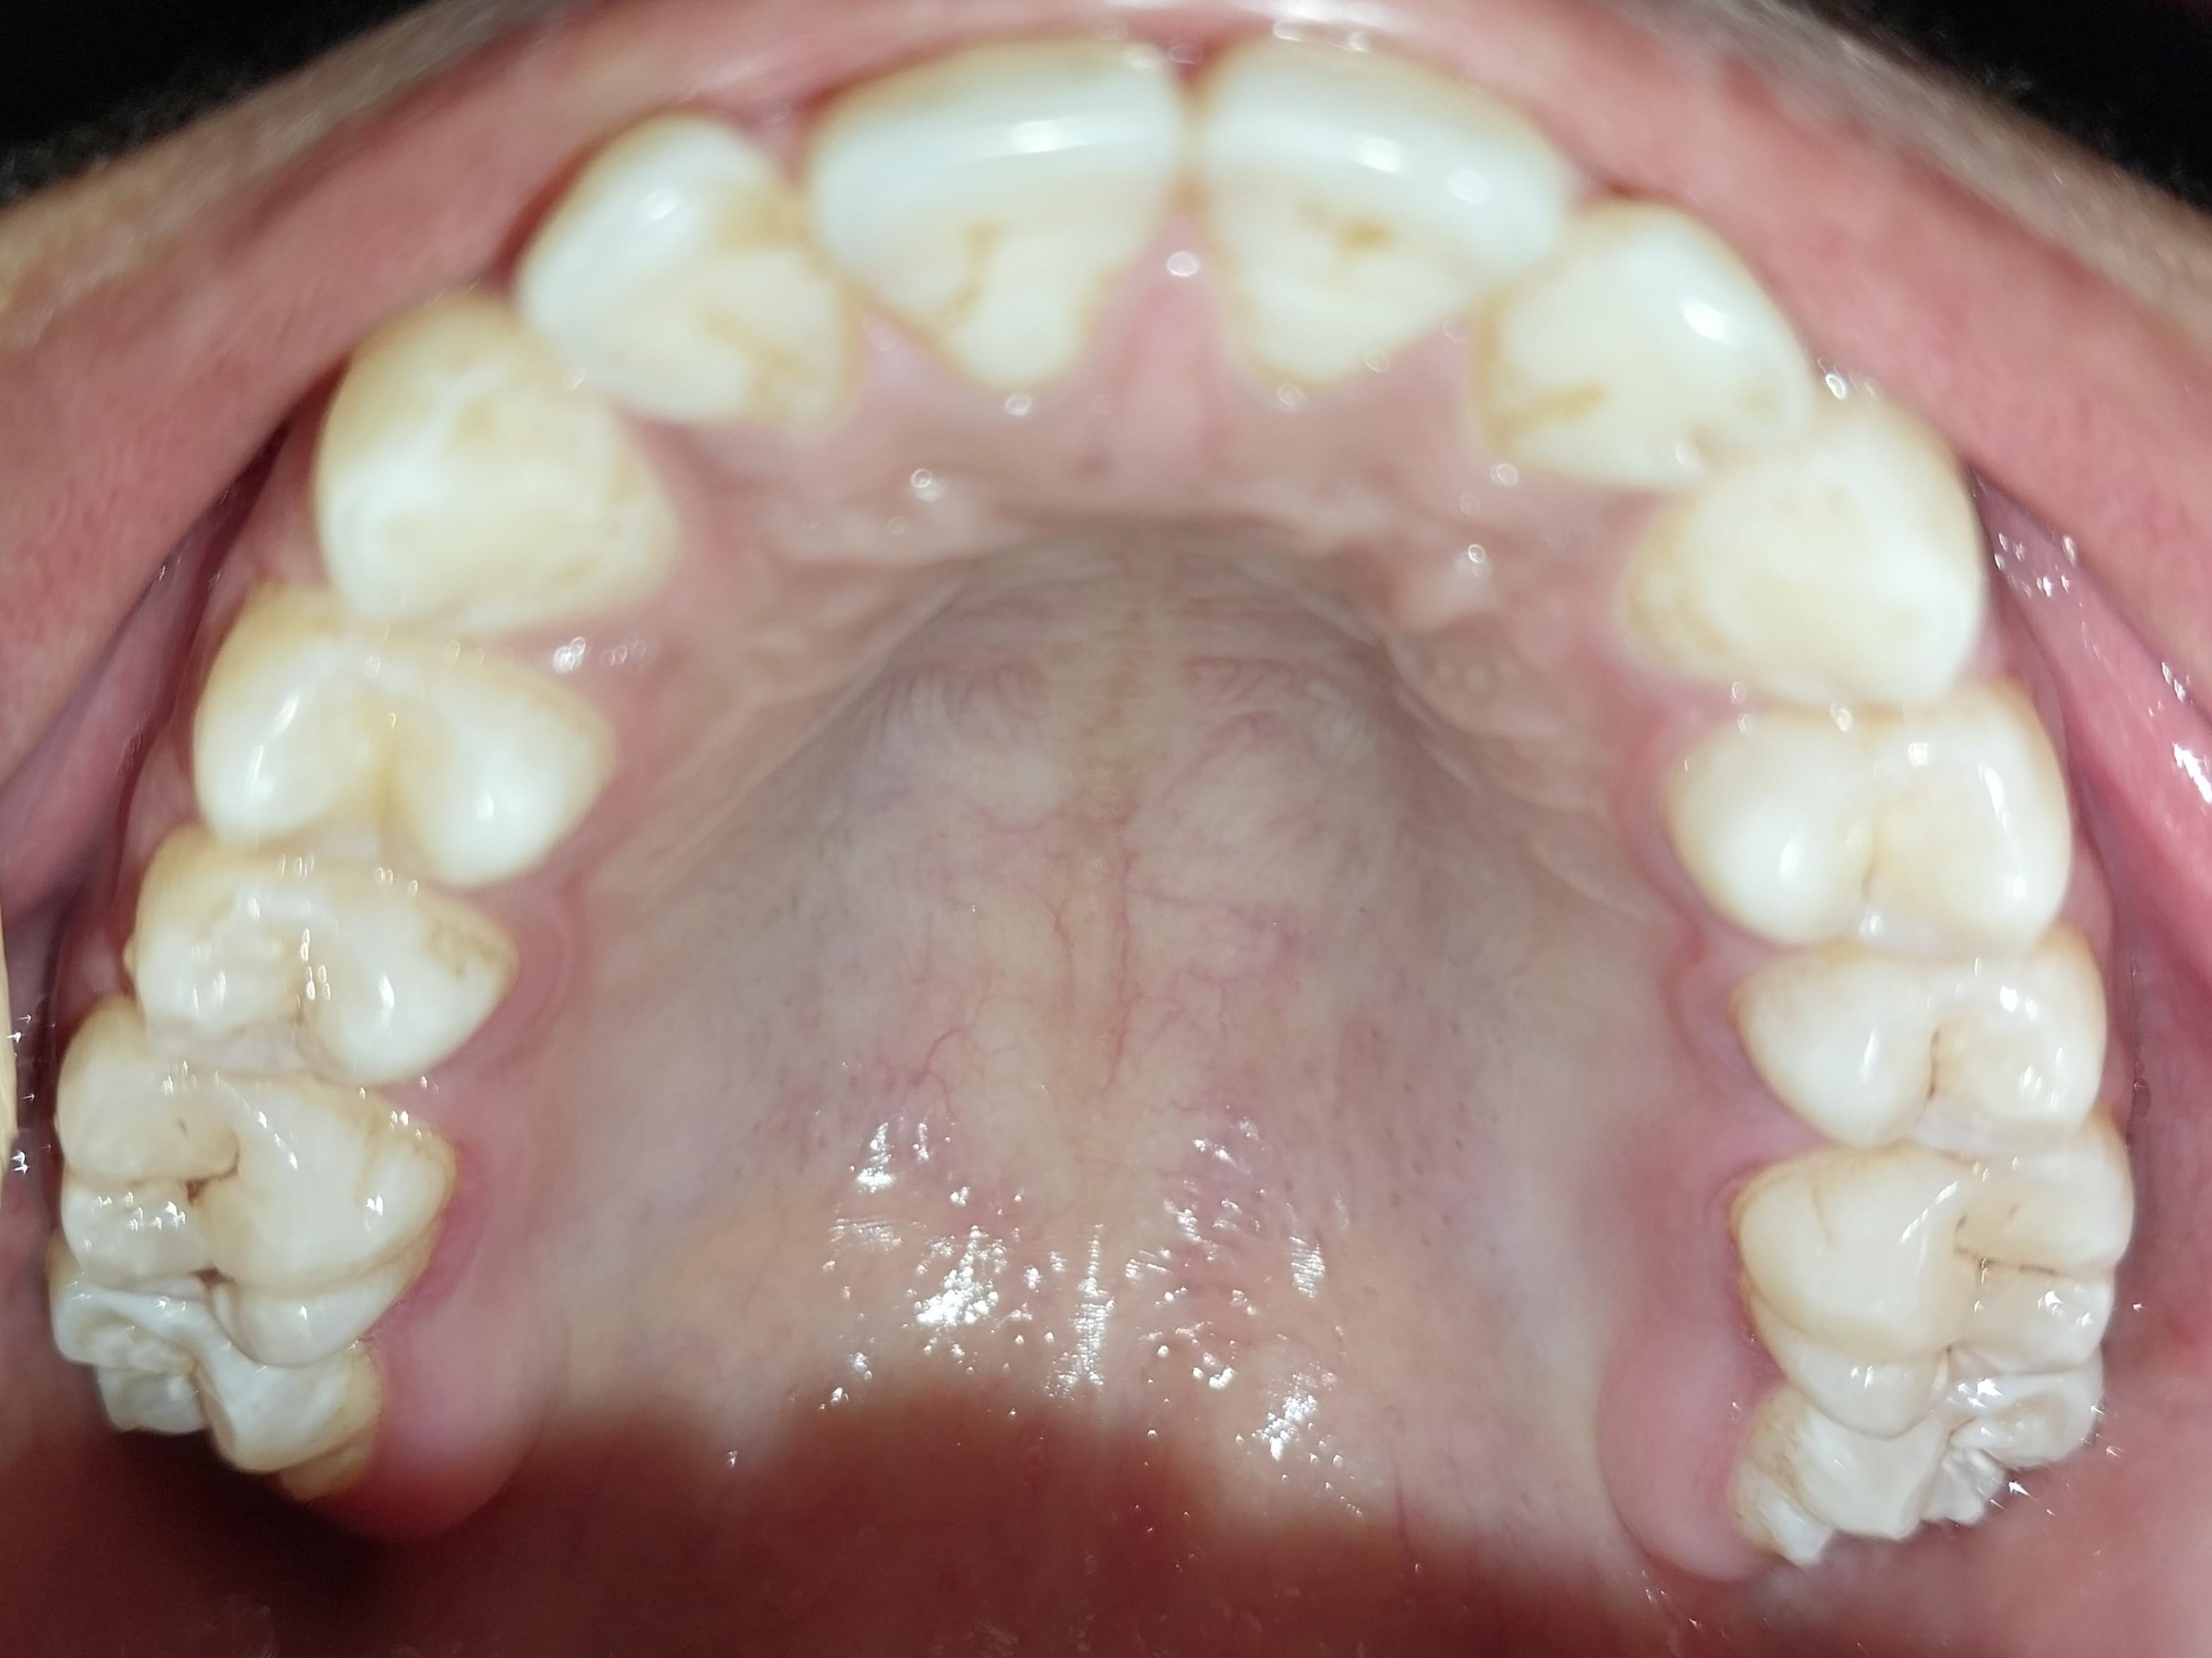D: (62, 1002, 444, 1360)
